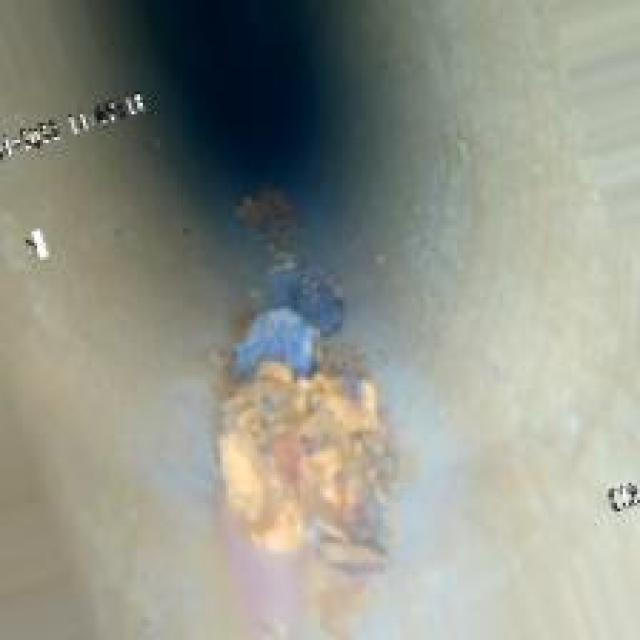stone: (214, 266, 394, 574)
